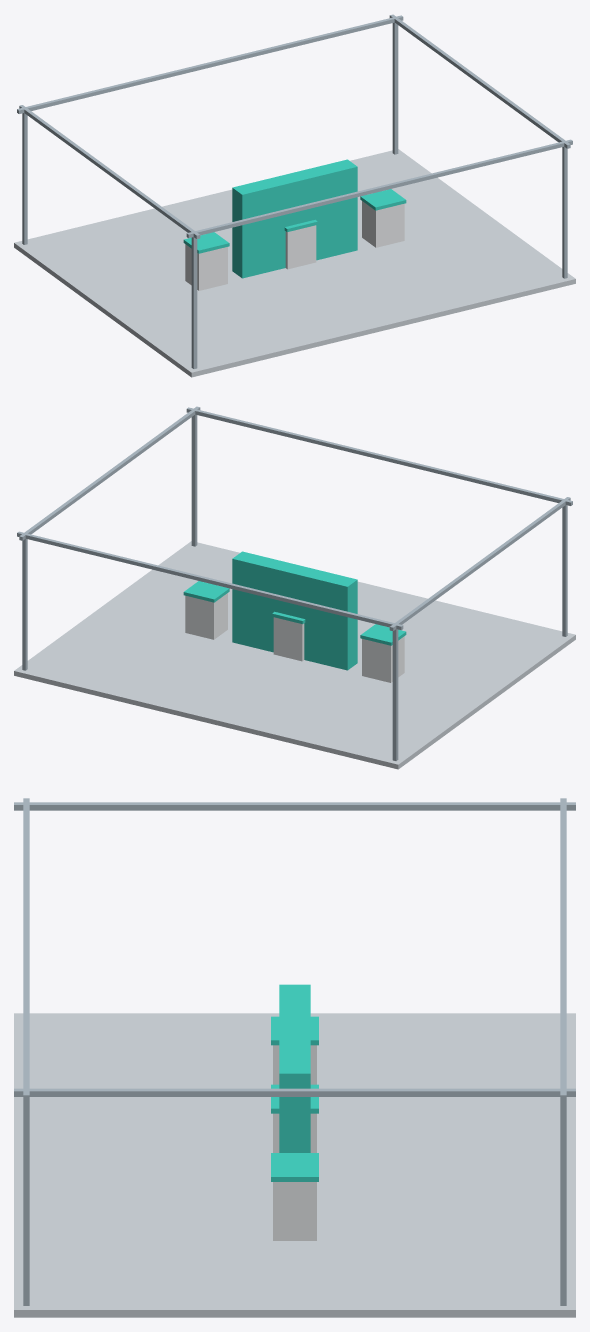
3 renders of one model, top to bottom at view 1: azimuth 30°, elevation 25°; view 2: azimuth 150°, elevation 25°; view 3: azimuth 270°, elevation 25°, orthographic. The views are drawn at different scales.
Parts seen in each view (by area): view 1: Exhibition Booth Concept; view 2: Exhibition Booth Concept; view 3: Exhibition Booth Concept.
Boxes of the visible parts, left/top/right/bottom form: Exhibition Booth Concept: left=14, top=14, right=575, bottom=377; Exhibition Booth Concept: left=14, top=406, right=575, bottom=769; Exhibition Booth Concept: left=14, top=798, right=575, bottom=1317.
Bounding box in the file's own units: 10 × 3.49 × 8.
